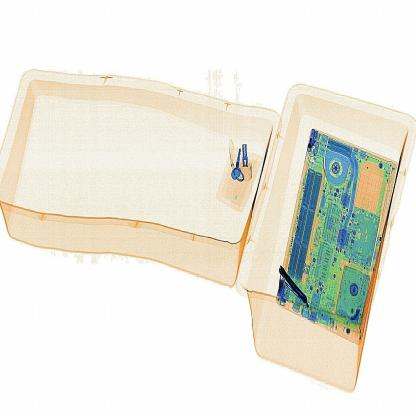knife: (272, 264, 307, 312)
